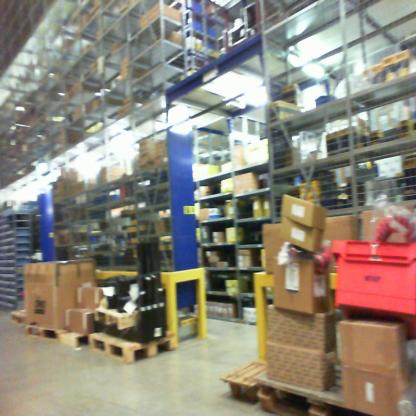pallet: (86, 321, 180, 373), (256, 377, 387, 414), (222, 336, 267, 410), (58, 320, 108, 356), (28, 322, 73, 343), (7, 306, 30, 336)
small_load_carrier: (322, 222, 413, 325)
